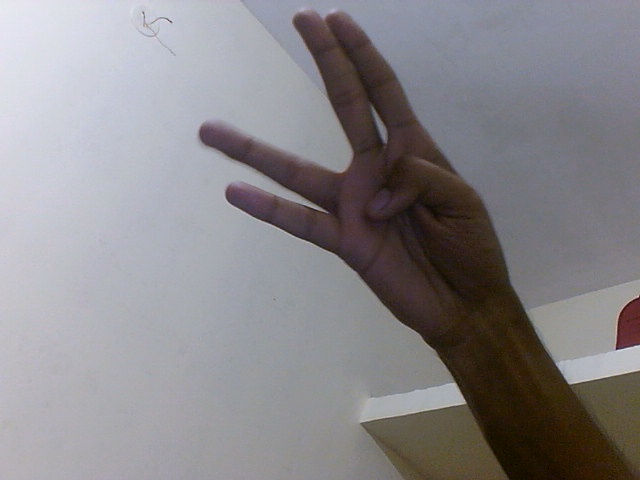hand: (195, 7, 513, 349)
